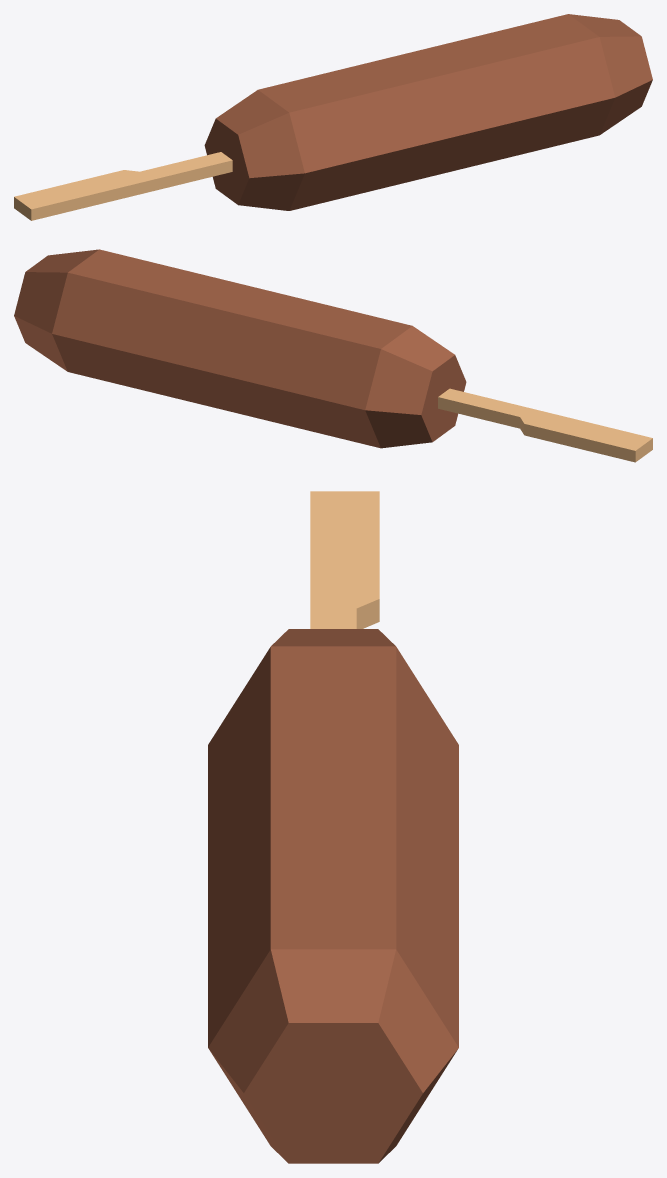
Rendered from cornDog.obj.
3 renders of one model, top to bottom at view 1: azimuth 30°, elevation 25°; view 2: azimuth 150°, elevation 25°; view 3: azimuth 270°, elevation 25°, orthographic. The views are drawn at different scales.
Parts seen in each view (by area): view 1: dog, cornDog; view 2: dog, cornDog; view 3: dog, cornDog.
Boxes of the visible parts, x1,y1,x2,y2 form: dog: [204, 14, 652, 210]; cornDog: [14, 152, 232, 220]; dog: [14, 249, 466, 448]; cornDog: [438, 388, 652, 462]; dog: [208, 629, 458, 1163]; cornDog: [310, 491, 379, 628].
Size of the model in its own units: 0.6044 by 0.094 by 0.1085.
